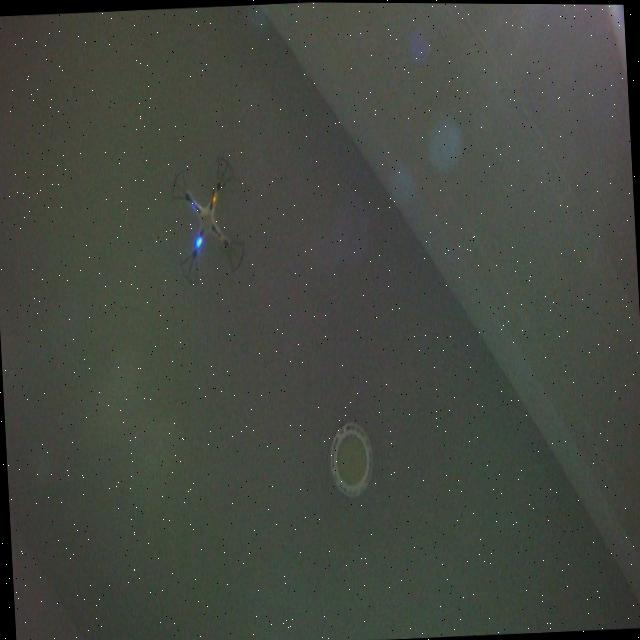drone: (167, 149, 251, 290)
